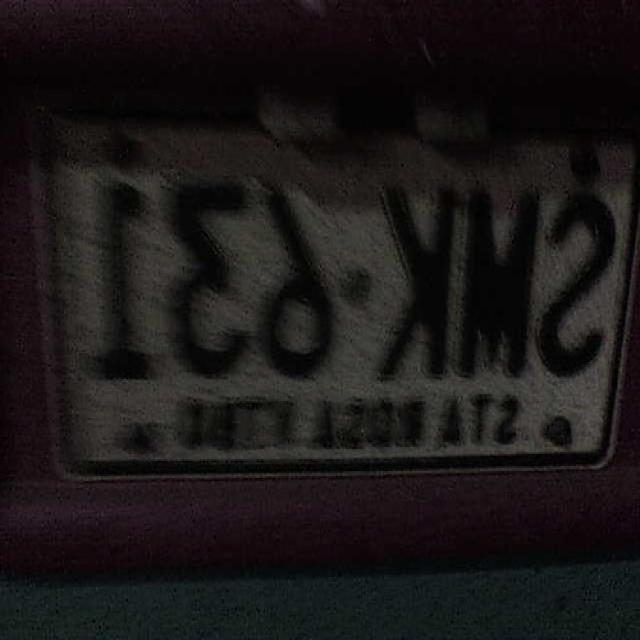placas: (63, 167, 618, 389)
